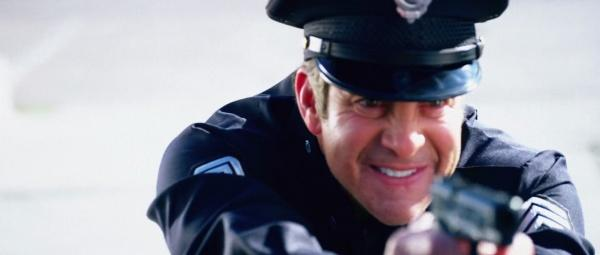Gun: (433, 176, 521, 248)
